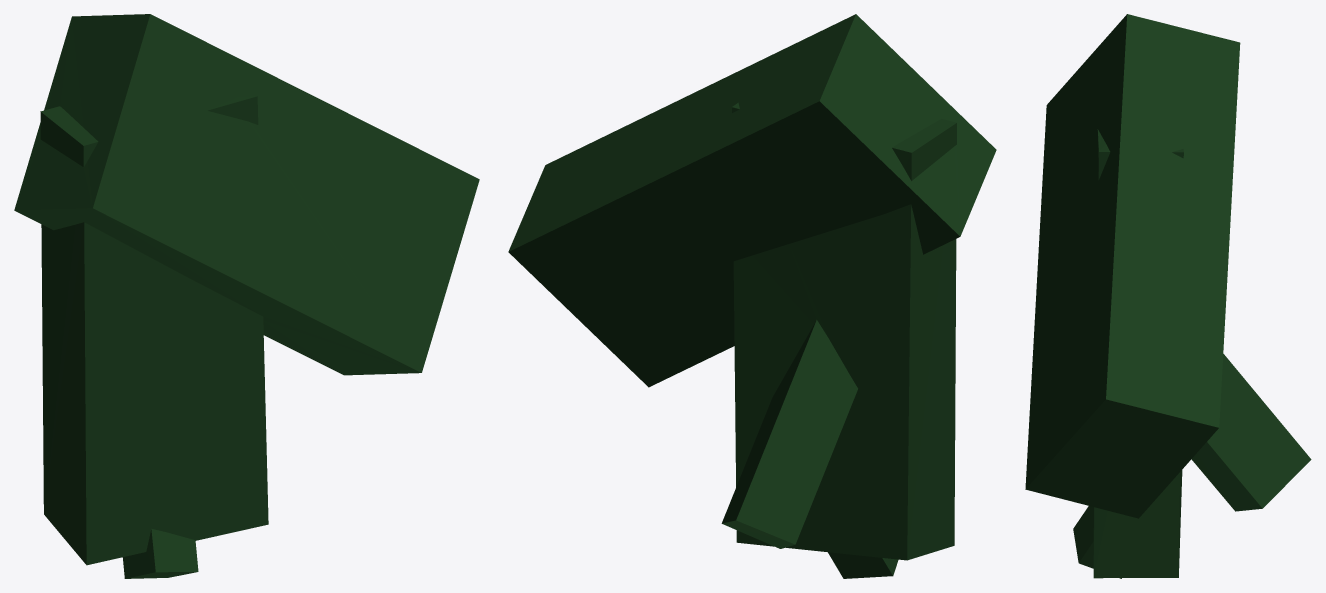
3 renders of one model, left to right at view 1: azimuth 30°, elevation 25°; view 2: azimuth 150°, elevation 25°; view 3: azimuth 270°, elevation 25°, orthographic. The views are drawn at different scales.
Visible parts, largest first — view 1: 424_Cube.1723; view 2: 424_Cube.1723; view 3: 424_Cube.1723.
Boxes of the visible parts, <box> form: 424_Cube.1723: <box>14,14,479,578</box>; 424_Cube.1723: <box>508,14,996,578</box>; 424_Cube.1723: <box>1025,14,1311,578</box>.
Size of the model in its own units: 13.48 by 16.62 by 7.73.
